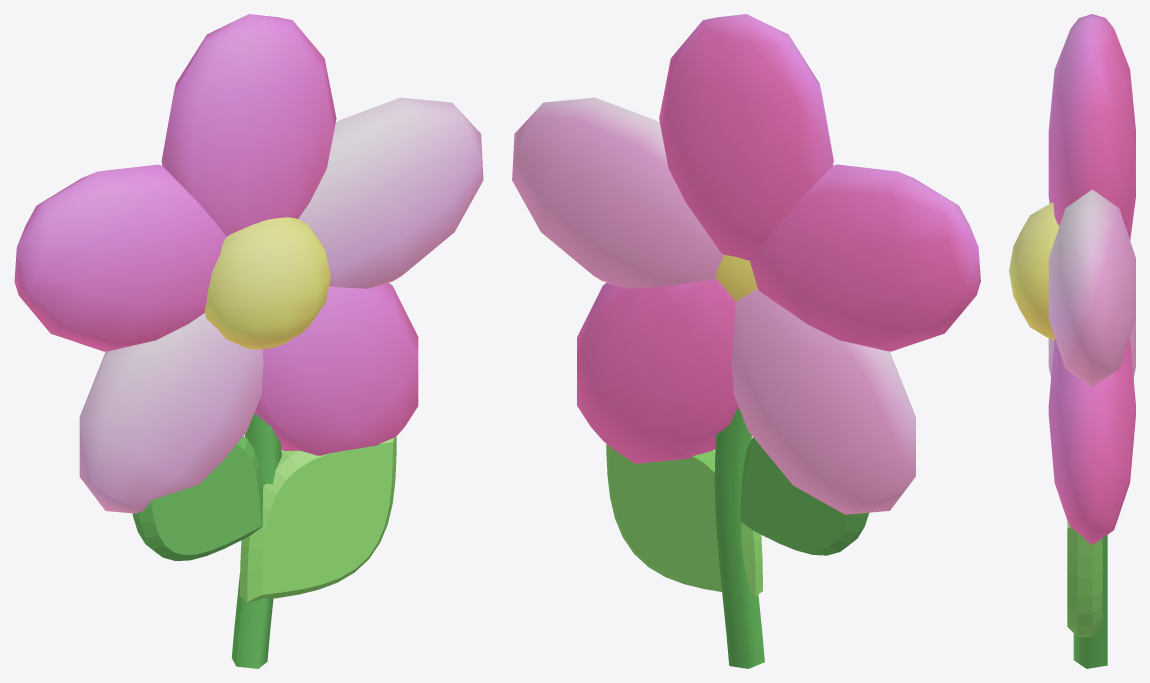
The model's file is pickup.glb.
The picture shows the model from 3 angles, left to right: view 1: azimuth 30°, elevation 25°; view 2: azimuth 150°, elevation 25°; view 3: azimuth 270°, elevation 25°; orthographic projection.
Size of the model in its own units: 0.2805 by 0.375 by 0.0671.
